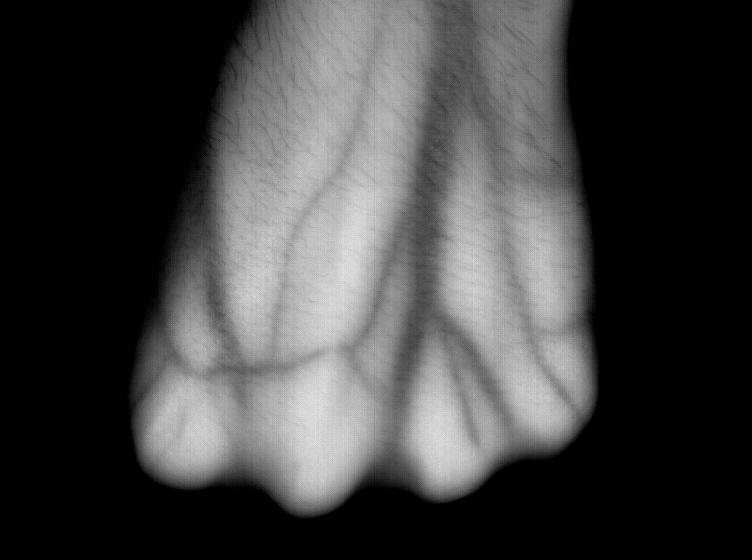Vein: (392, 20, 495, 407)
